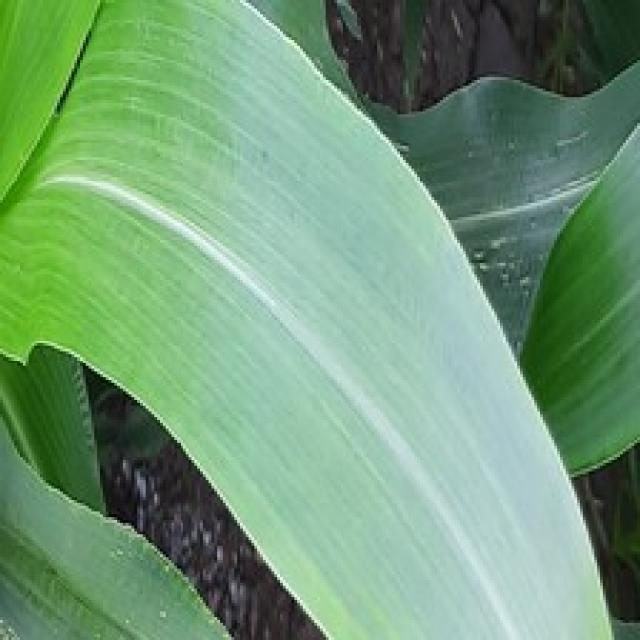Corn: (0, 0, 634, 637), (514, 0, 637, 480)
